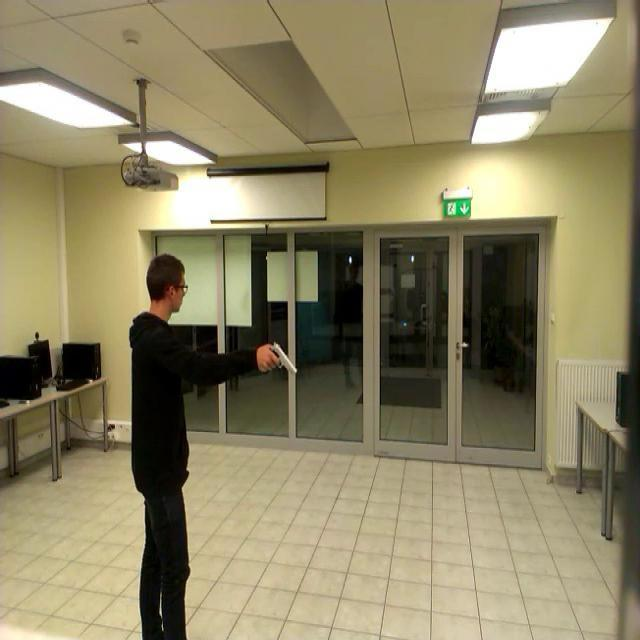weapon: (269, 342, 298, 376)
